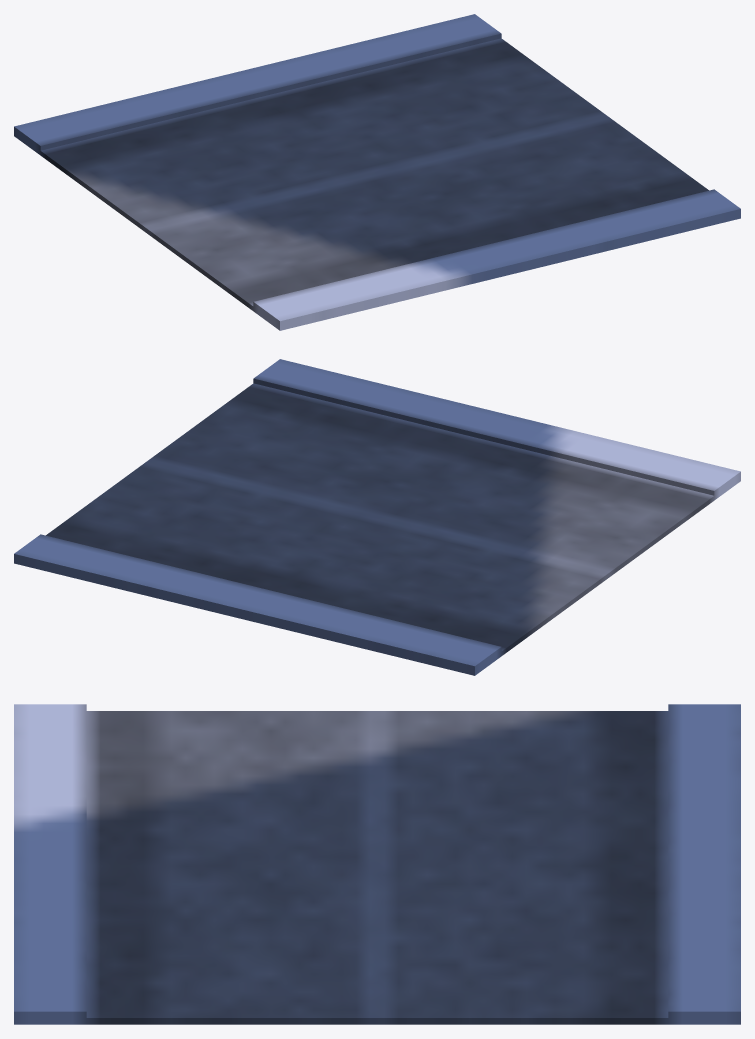
The model's file is road-17.obj.
3 views of the same model, one above another, from view 1: azimuth 30°, elevation 25°; view 2: azimuth 150°, elevation 25°; view 3: azimuth 270°, elevation 25° (orthographic). The views are drawn at different scales.
Size of the model in its own units: 1 by 0.02 by 1.
1 material, 1 textured.
